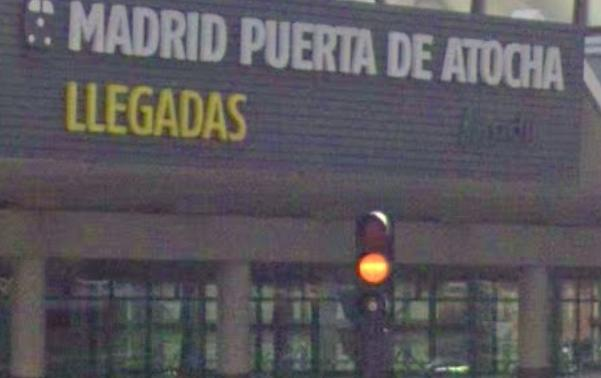yellow_light: (354, 209, 393, 326)
